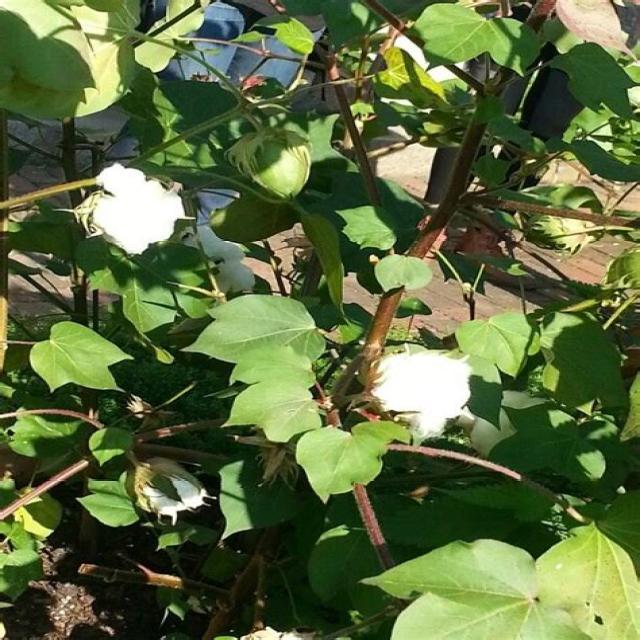Early Boll: (223, 127, 322, 201), (522, 206, 592, 253)
Matured Cotton Boll: (76, 160, 189, 254), (369, 346, 470, 436)
Split Cotton Boll: (130, 460, 215, 515)
